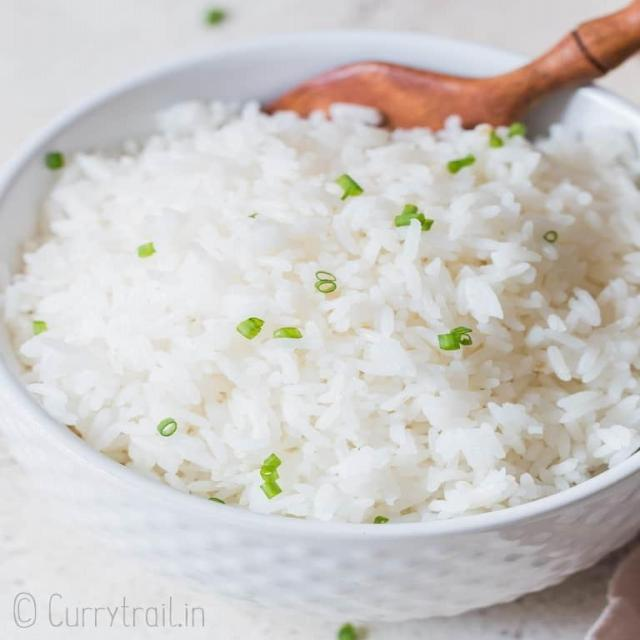rice: (15, 108, 640, 525)
